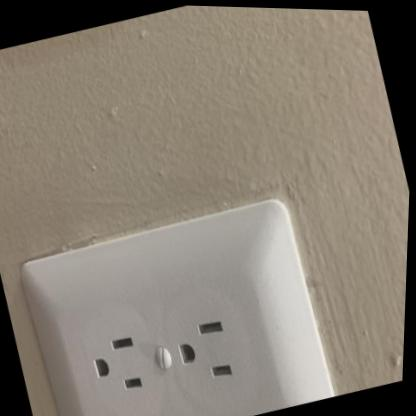OUTLET: (12, 181, 344, 416)
